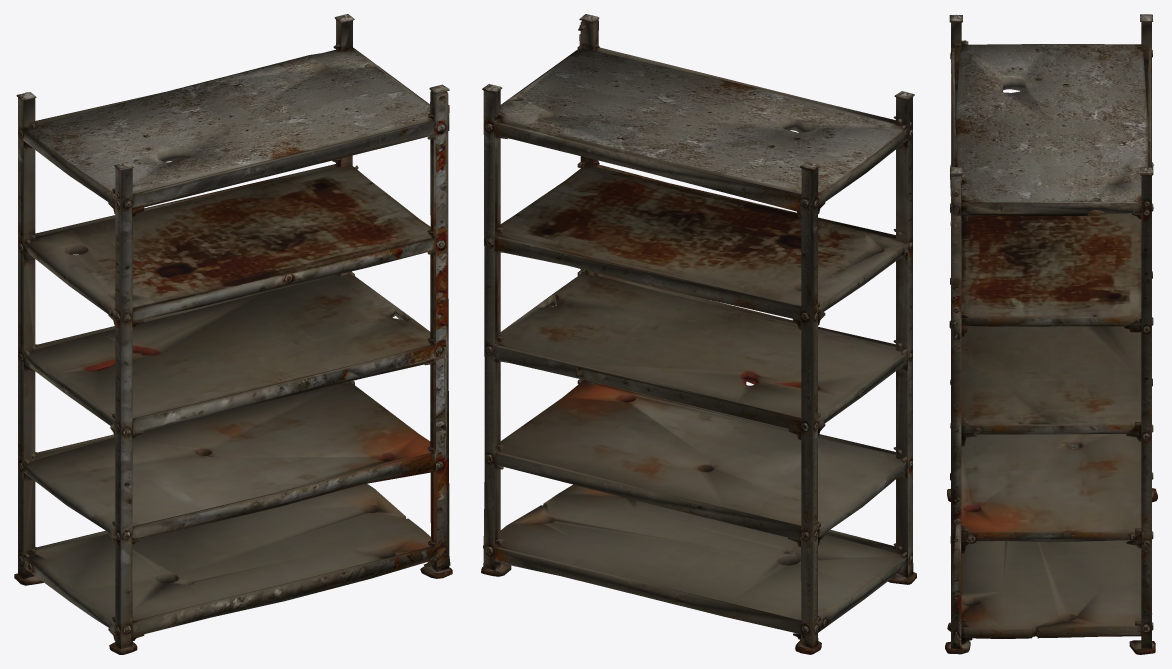
Rendered from prop_shelf_tall.glb.
The picture shows the model from 3 angles, left to right: view 1: azimuth 30°, elevation 25°; view 2: azimuth 150°, elevation 25°; view 3: azimuth 270°, elevation 25°; orthographic projection.
Visible parts, largest first — view 1: tripo_node_722fdb28-b719-4882-839a-9e08f52d7b14; view 2: tripo_node_722fdb28-b719-4882-839a-9e08f52d7b14; view 3: tripo_node_722fdb28-b719-4882-839a-9e08f52d7b14.
Boxes of the visible parts, x1,y1,x2,y2 form: tripo_node_722fdb28-b719-4882-839a-9e08f52d7b14: [14, 14, 452, 654]; tripo_node_722fdb28-b719-4882-839a-9e08f52d7b14: [481, 14, 916, 654]; tripo_node_722fdb28-b719-4882-839a-9e08f52d7b14: [945, 14, 1157, 654].
Bounding box in the file's own units: 1.59 × 2.2 × 0.878.
Materials: 1 (1 with a texture image).
